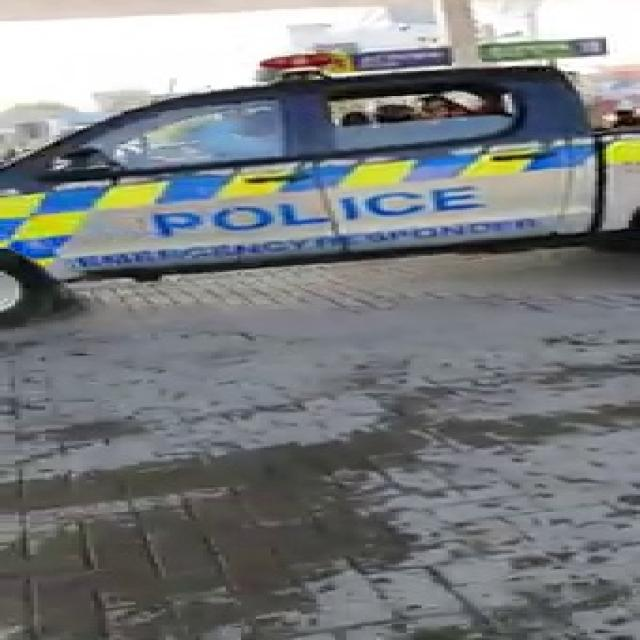police: (0, 18, 640, 272)
